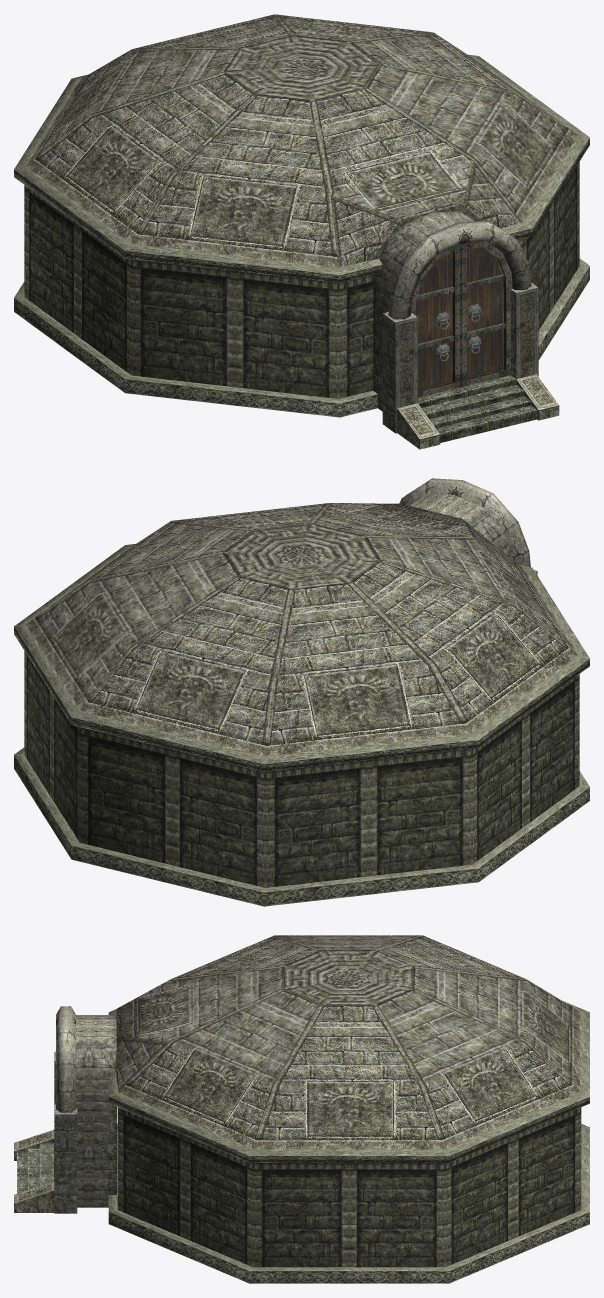
The model's file is ob-12-03gate01.fbx.
3 views of the same model, one above another, from view 1: azimuth 30°, elevation 25°; view 2: azimuth 150°, elevation 25°; view 3: azimuth 270°, elevation 25° (orthographic). The views are drawn at different scales.
Visible parts, largest first — view 1: Sphere01; view 2: Sphere01; view 3: Sphere01.
Part boxes in pixels (x1,y1,x2,y2): Sphere01: (14, 14, 589, 449); Sphere01: (14, 478, 589, 906); Sphere01: (14, 935, 589, 1283).
Bounding box in the file's own units: 21.15 × 9.91 × 25.32.
